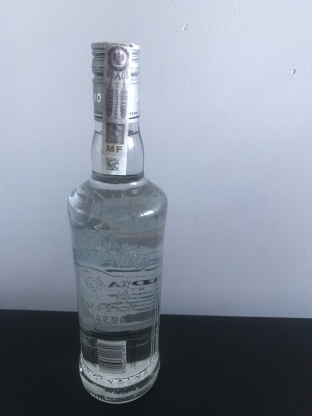nakretka: (88, 36, 143, 125)
